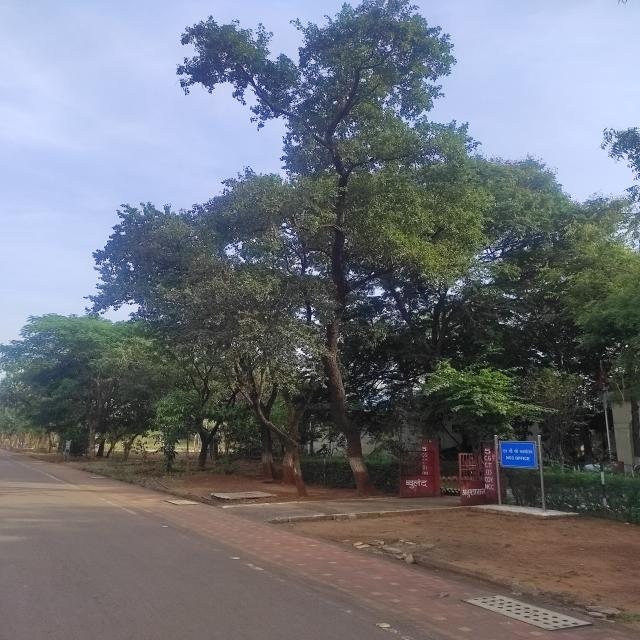Devakanchan tree: (153, 14, 491, 467)
